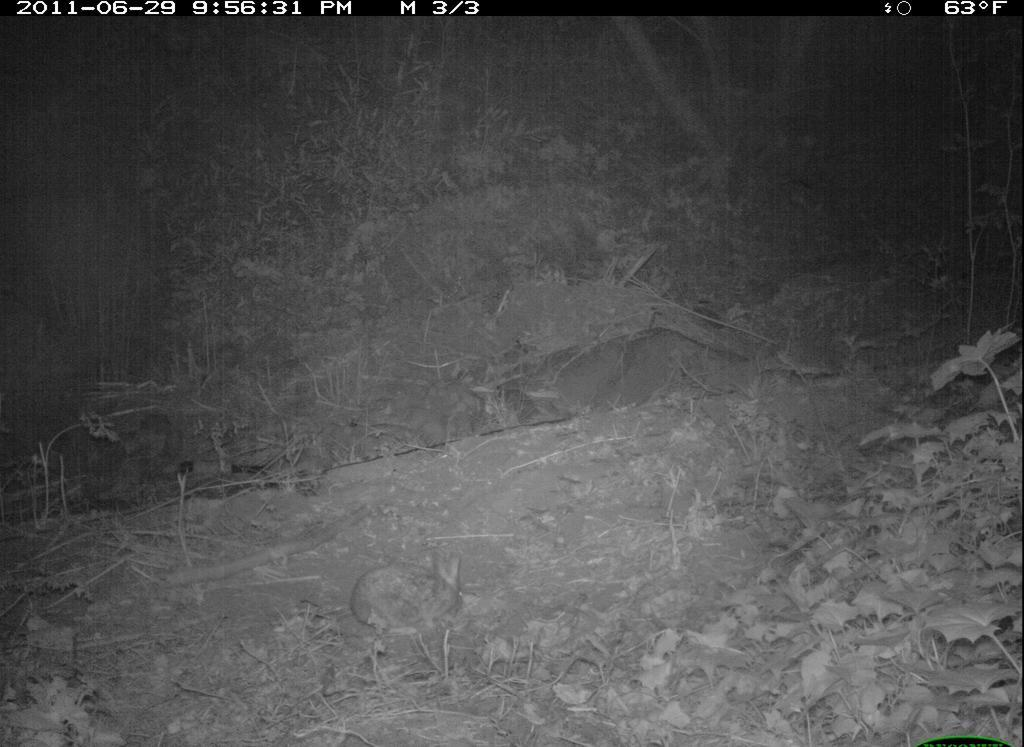rabbit: (342, 541, 482, 652)
